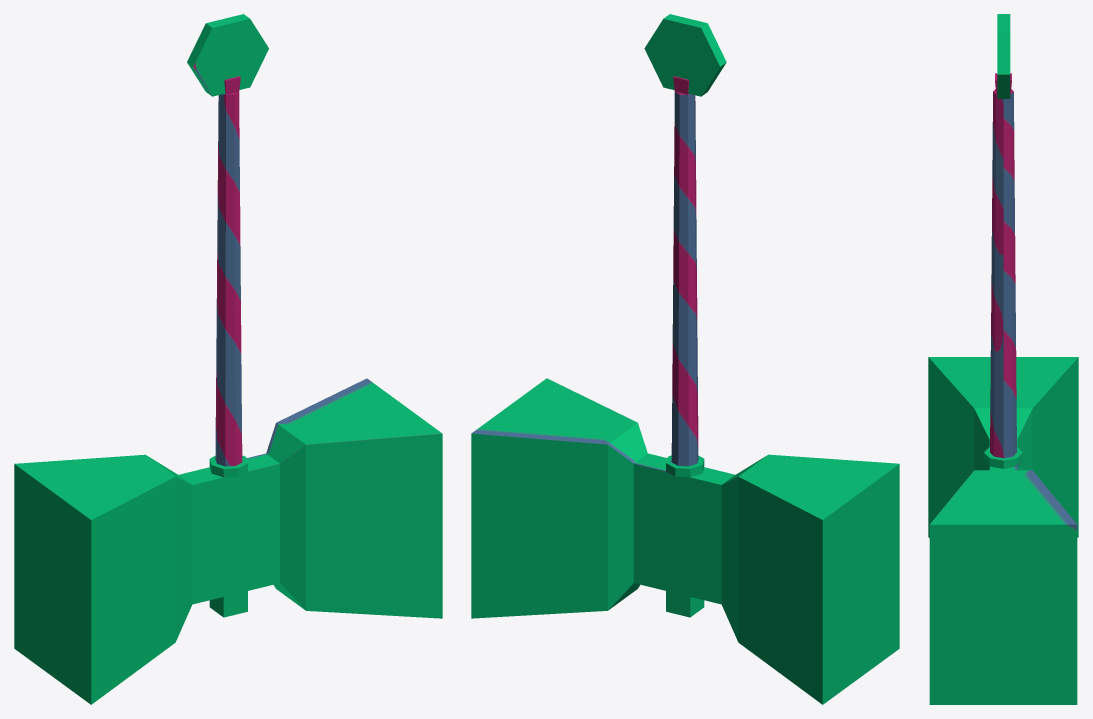
File: hummer.fbx
3 views of the same model, side by side, from view 1: azimuth 30°, elevation 25°; view 2: azimuth 150°, elevation 25°; view 3: azimuth 270°, elevation 25° (orthographic). The views are drawn at different scales.
Parts seen in each view (by area): view 1: Hummer; view 2: Hummer; view 3: Hummer.
Boxes of the visible parts, left/top/right/bottom form: Hummer: left=14, top=14, right=442, bottom=704; Hummer: left=471, top=14, right=899, bottom=704; Hummer: left=928, top=14, right=1078, bottom=704.
Size of the model in its own units: 466 by 775 by 177.
Materials: 1 (1 with a texture image).
